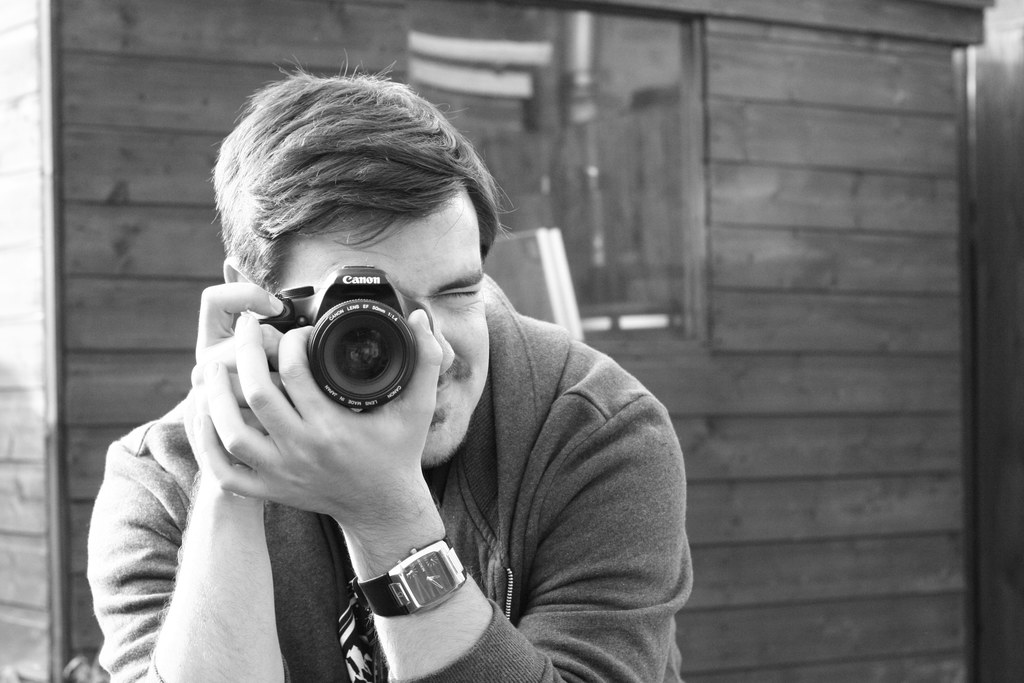face: (281, 191, 494, 457)
